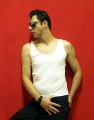male: (28, 11, 50, 39)
